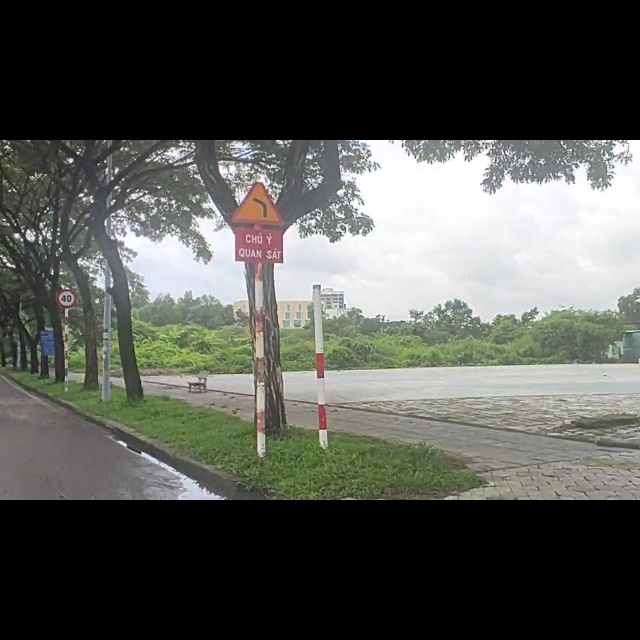bien_nguy_hiem: (227, 71, 287, 149), (57, 264, 78, 296)
